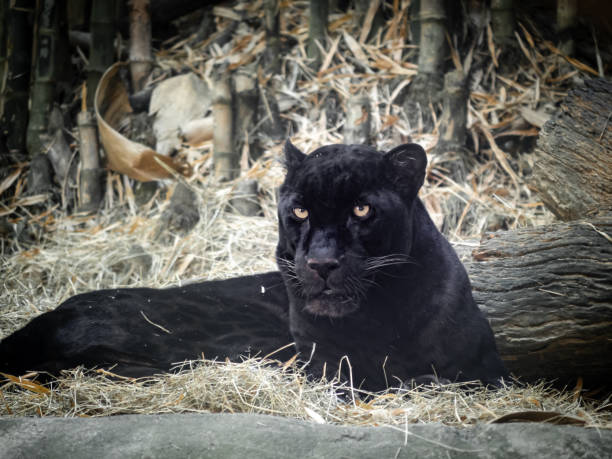panther: (268, 133, 431, 332)
